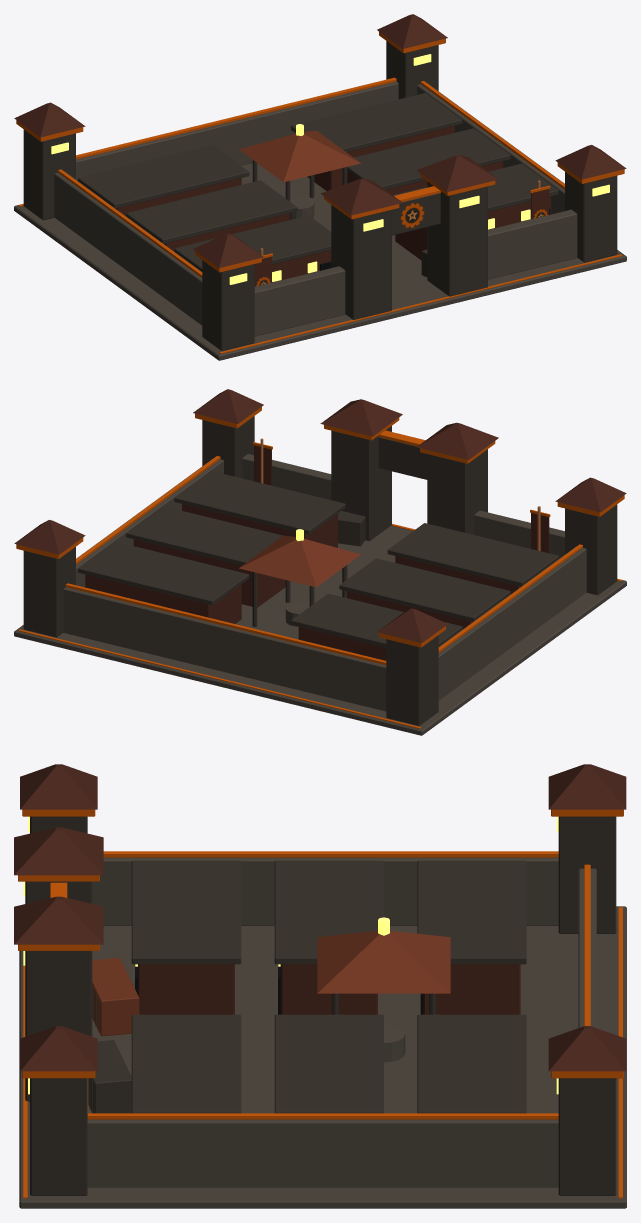
File: Thorvald_AsylumQuarter.fbx
The picture shows the model from 3 angles, top to bottom: view 1: azimuth 30°, elevation 25°; view 2: azimuth 150°, elevation 25°; view 3: azimuth 270°, elevation 25°; orthographic projection. The views are drawn at different scales.
Visible parts, largest first — view 1: Thorvald_AsylumQuarter; view 2: Thorvald_AsylumQuarter; view 3: Thorvald_AsylumQuarter.
Part boxes in pixels (left/top/right/bottom): Thorvald_AsylumQuarter: left=14, top=14, right=626, bottom=360; Thorvald_AsylumQuarter: left=14, top=389, right=626, bottom=735; Thorvald_AsylumQuarter: left=14, top=764, right=626, bottom=1208.
Bounding box in the file's own units: 23 × 7.2 × 20.18.
10 materials, 1 textured.
